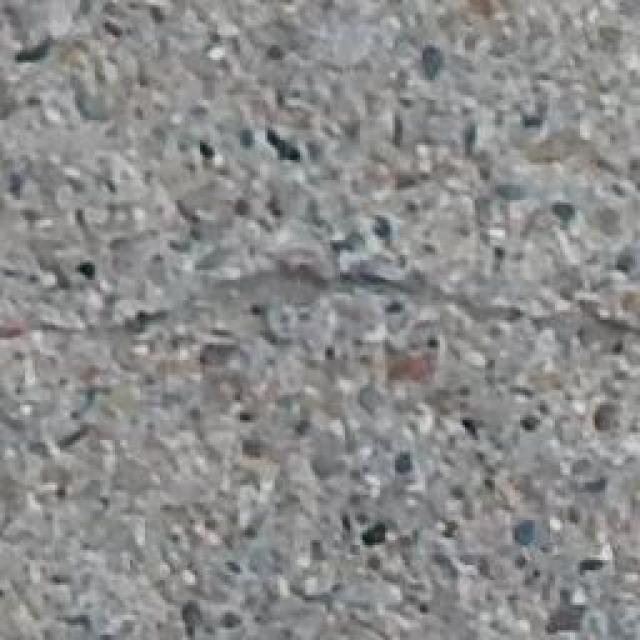concrete-crack: (4, 255, 637, 364)
